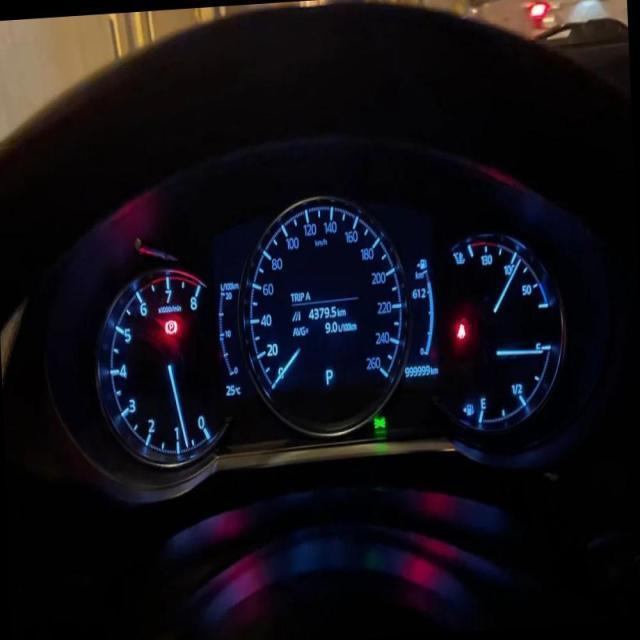Seat Belt: (456, 322, 466, 340)
